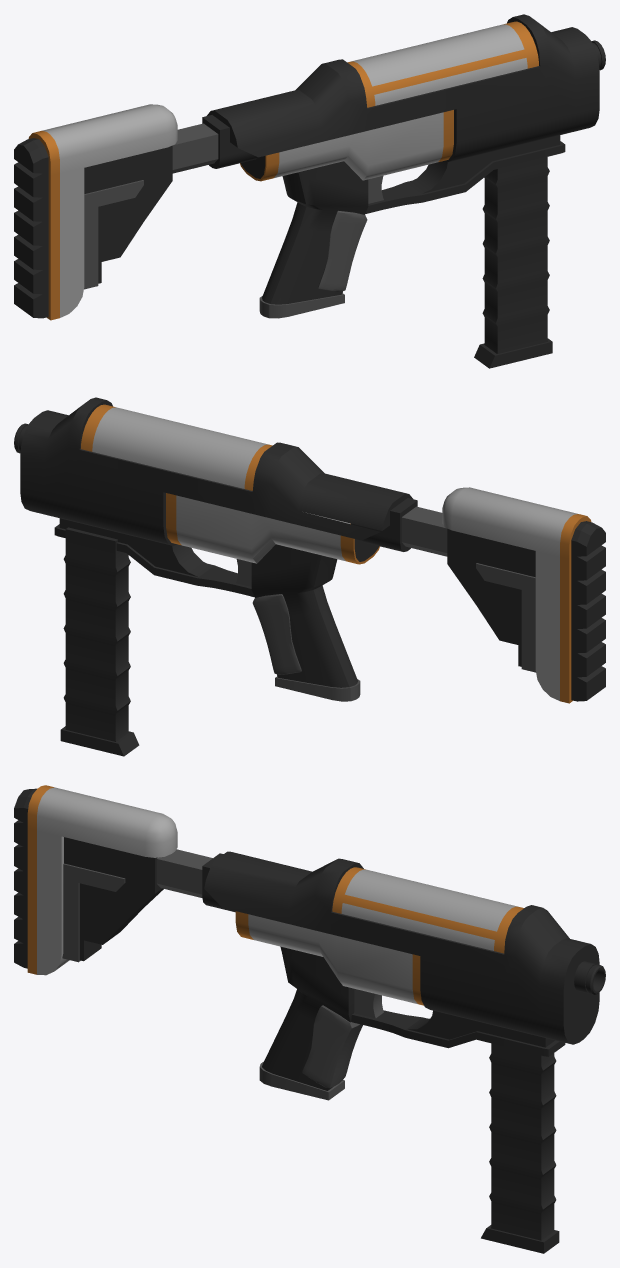
Rendered from SMG_1.glb.
The picture shows the model from 3 angles, top to bottom: view 1: azimuth 30°, elevation 25°; view 2: azimuth 150°, elevation 25°; view 3: azimuth 330°, elevation 25°; orthographic projection.
Visible parts, largest first — view 1: SMG_1, Magazine_SMG; view 2: SMG_1, Magazine_SMG; view 3: SMG_1, Magazine_SMG.
Part boxes in pixels (left/top/right/bottom): SMG_1: left=14, top=14, right=605, bottom=320; Magazine_SMG: left=474, top=157, right=552, bottom=368; SMG_1: left=14, top=397, right=605, bottom=703; Magazine_SMG: left=60, top=527, right=139, bottom=756; SMG_1: left=14, top=785, right=605, bottom=1100; Magazine_SMG: left=481, top=1043, right=559, bottom=1253.
Bounding box in the file's own units: 1.41 × 0.792 × 0.1529.
